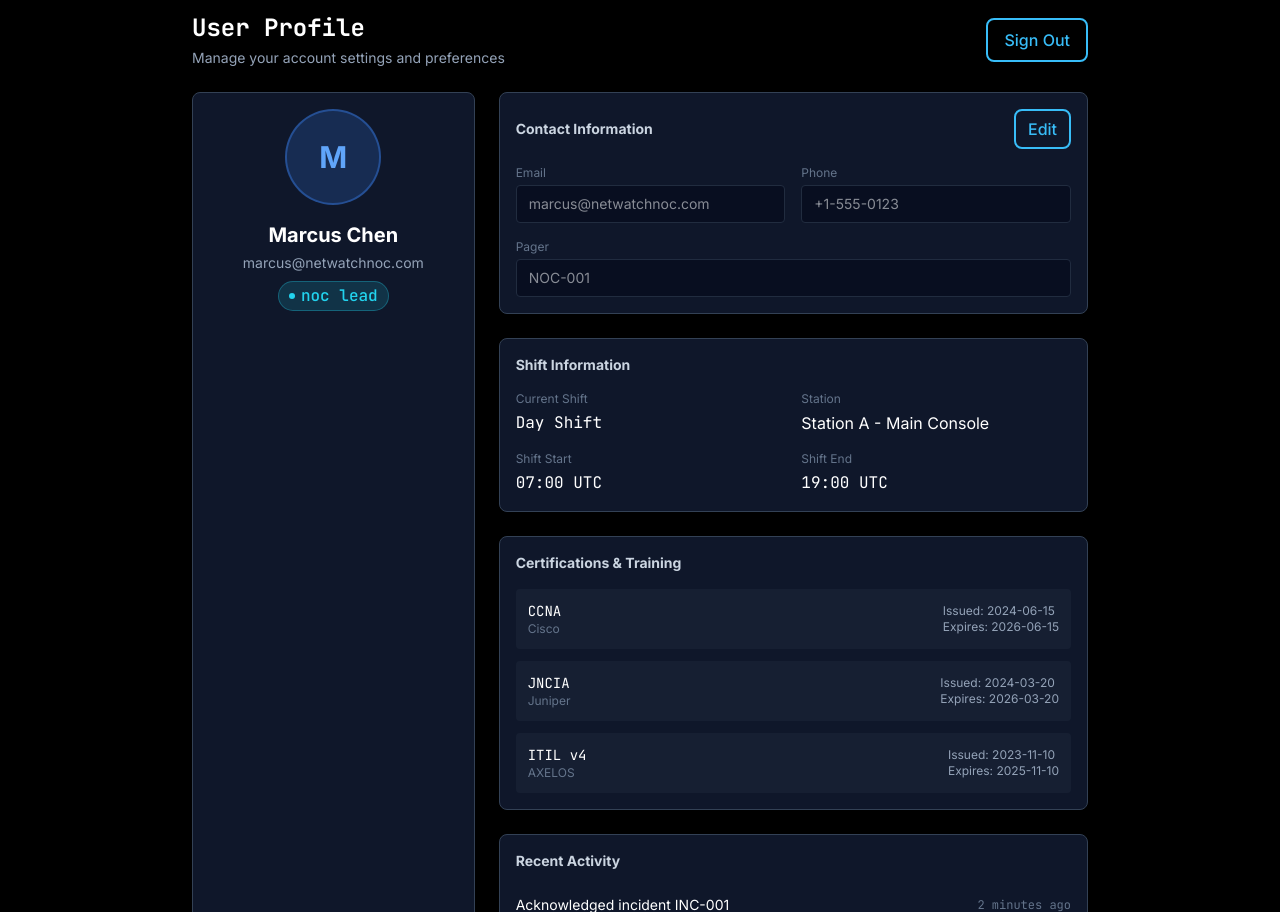
Test: ProfilePage › shows edit mode when Edit button is clicked
Click the button "Edit": (1042, 129) [1014, 109, 1071, 149]
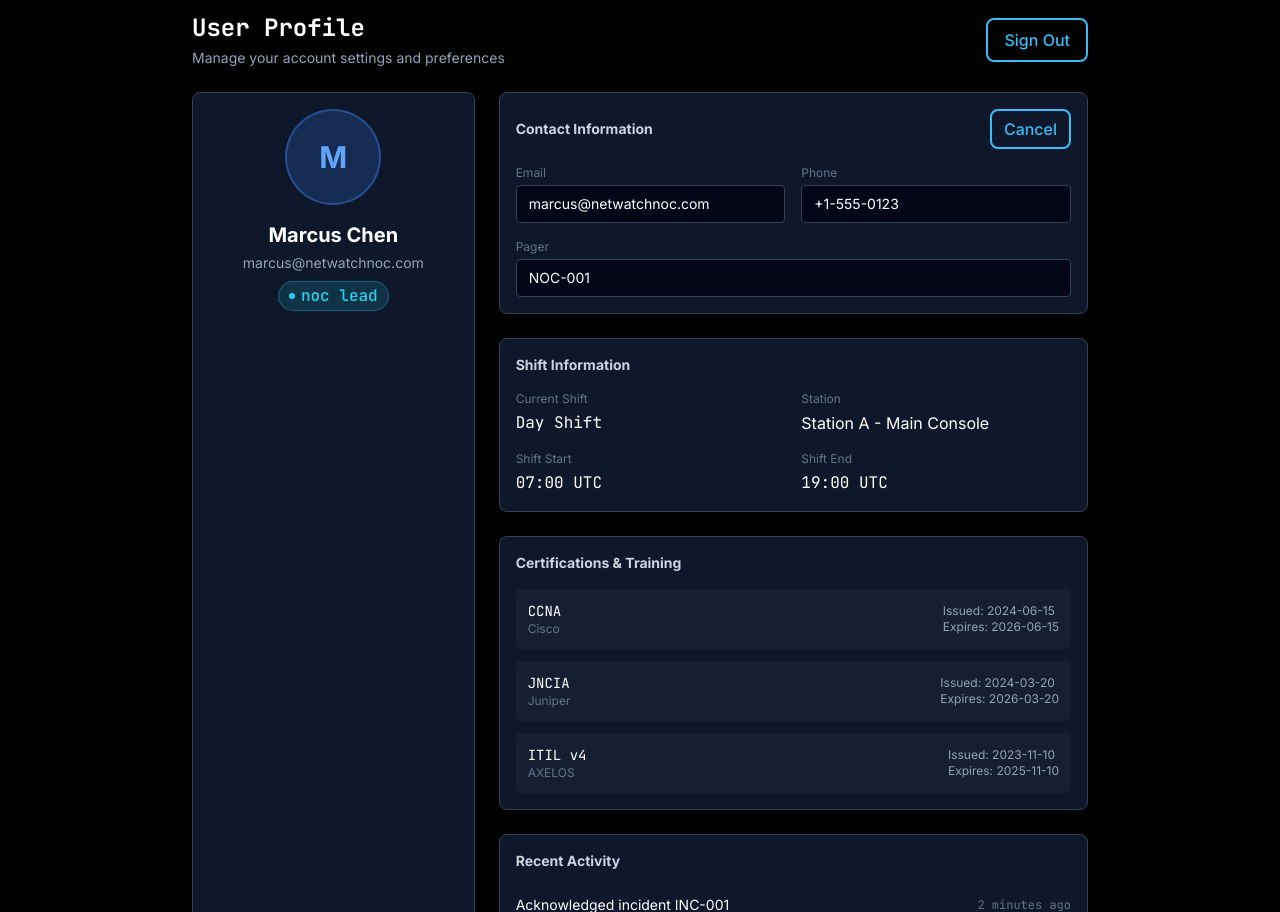
Result: the button "Cancel" is shown at [990, 109, 1071, 149]
